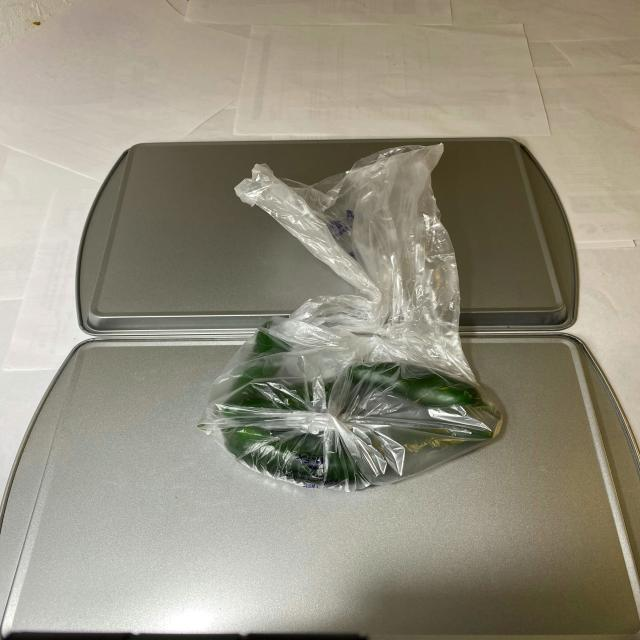chilli: (210, 320, 524, 484)
